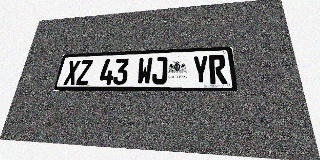3: (112, 58, 129, 85)
4: (99, 59, 116, 85)
J: (152, 57, 168, 85)
R: (208, 55, 227, 84)
W: (136, 57, 153, 85)
X: (63, 60, 81, 85)
Y: (192, 55, 209, 84)
Z: (76, 60, 93, 85)
